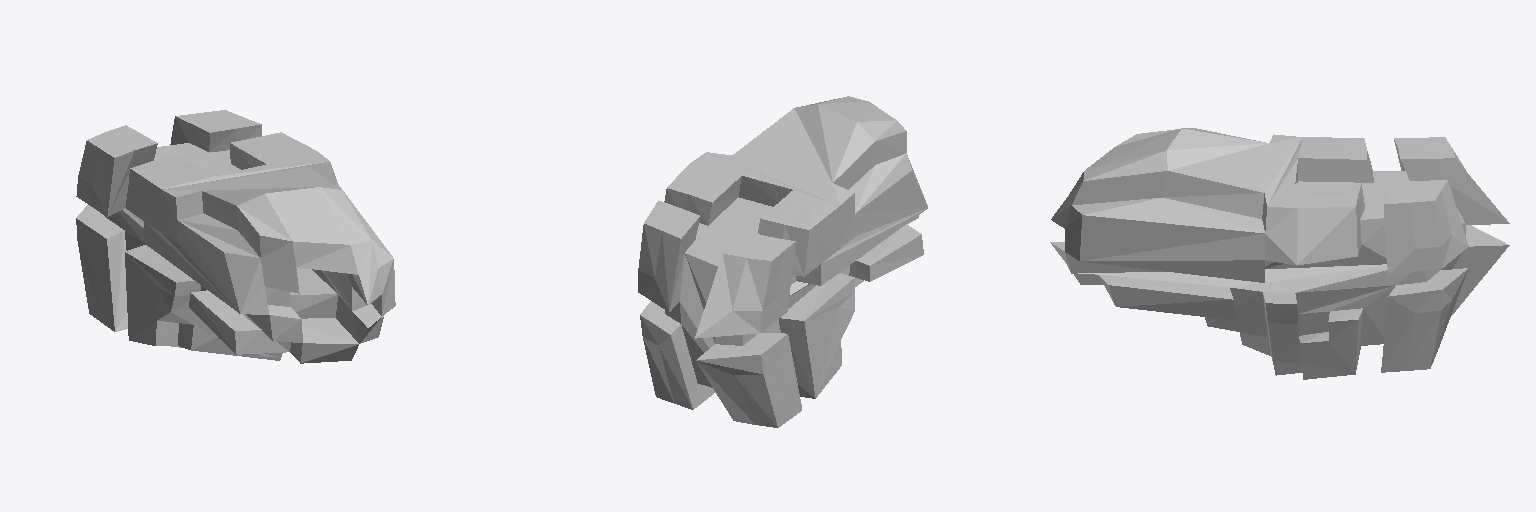
Rendered from RocketBot_LOD0-0.obj.
3 renders of one model, left to right at view 1: azimuth 30°, elevation 25°; view 2: azimuth 150°, elevation 25°; view 3: azimuth 270°, elevation 25°, orthographic.
Parts seen in each view (by area): view 1: RocketBot_LOD0-0; view 2: RocketBot_LOD0-0; view 3: RocketBot_LOD0-0.
Part boxes in pixels (bbox=[...]): RocketBot_LOD0-0: bbox=[76, 110, 395, 363]; RocketBot_LOD0-0: bbox=[638, 96, 927, 427]; RocketBot_LOD0-0: bbox=[1050, 128, 1509, 379].
Bounding box in the file's own units: 0.8774 × 1.03 × 1.98.